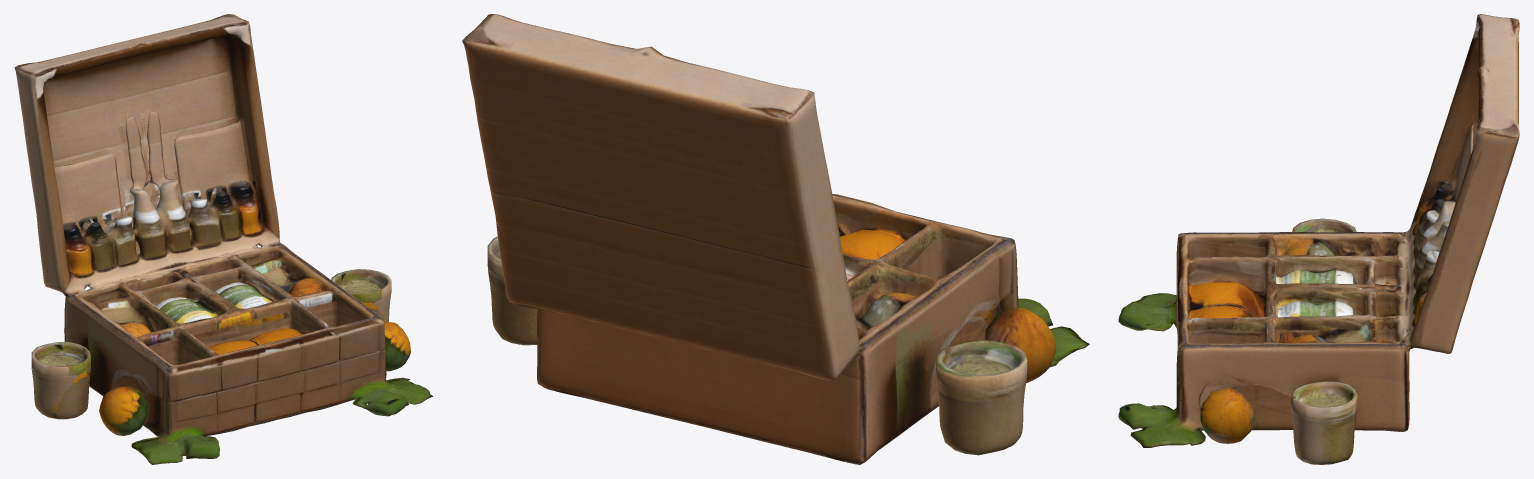
3 views of the same model, side by side, from view 1: azimuth 30°, elevation 25°; view 2: azimuth 150°, elevation 25°; view 3: azimuth 270°, elevation 25° (orthographic). The views are drawn at different scales.
Visible parts, largest first — view 1: Mesh_0; view 2: Mesh_0; view 3: Mesh_0.
Boxes of the visible parts, left/top/right/bottom form: Mesh_0: left=14, top=14, right=432, bottom=464; Mesh_0: left=462, top=14, right=1089, bottom=464; Mesh_0: left=1118, top=14, right=1519, bottom=464.
Bounding box in the file's own units: 1.96 × 1.48 × 1.75.
Materials: 1 (1 with a texture image).
